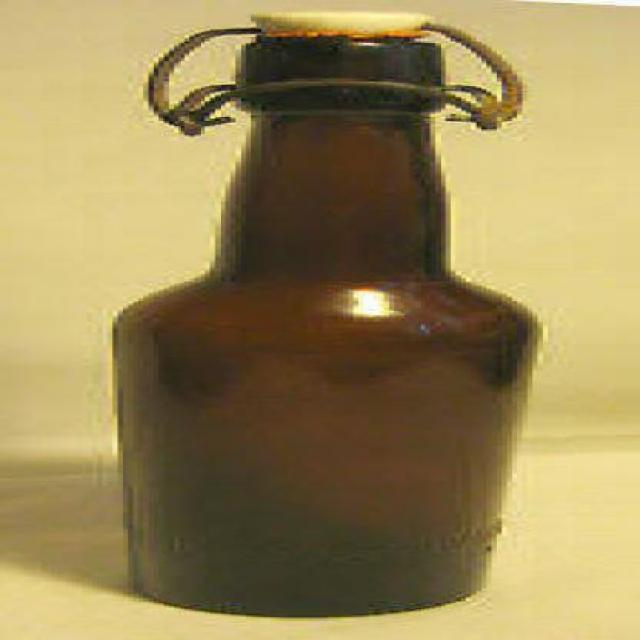kaca: (108, 37, 532, 618)
